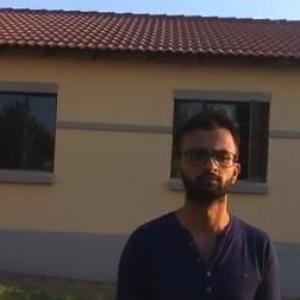follow: (104, 99, 289, 299)
